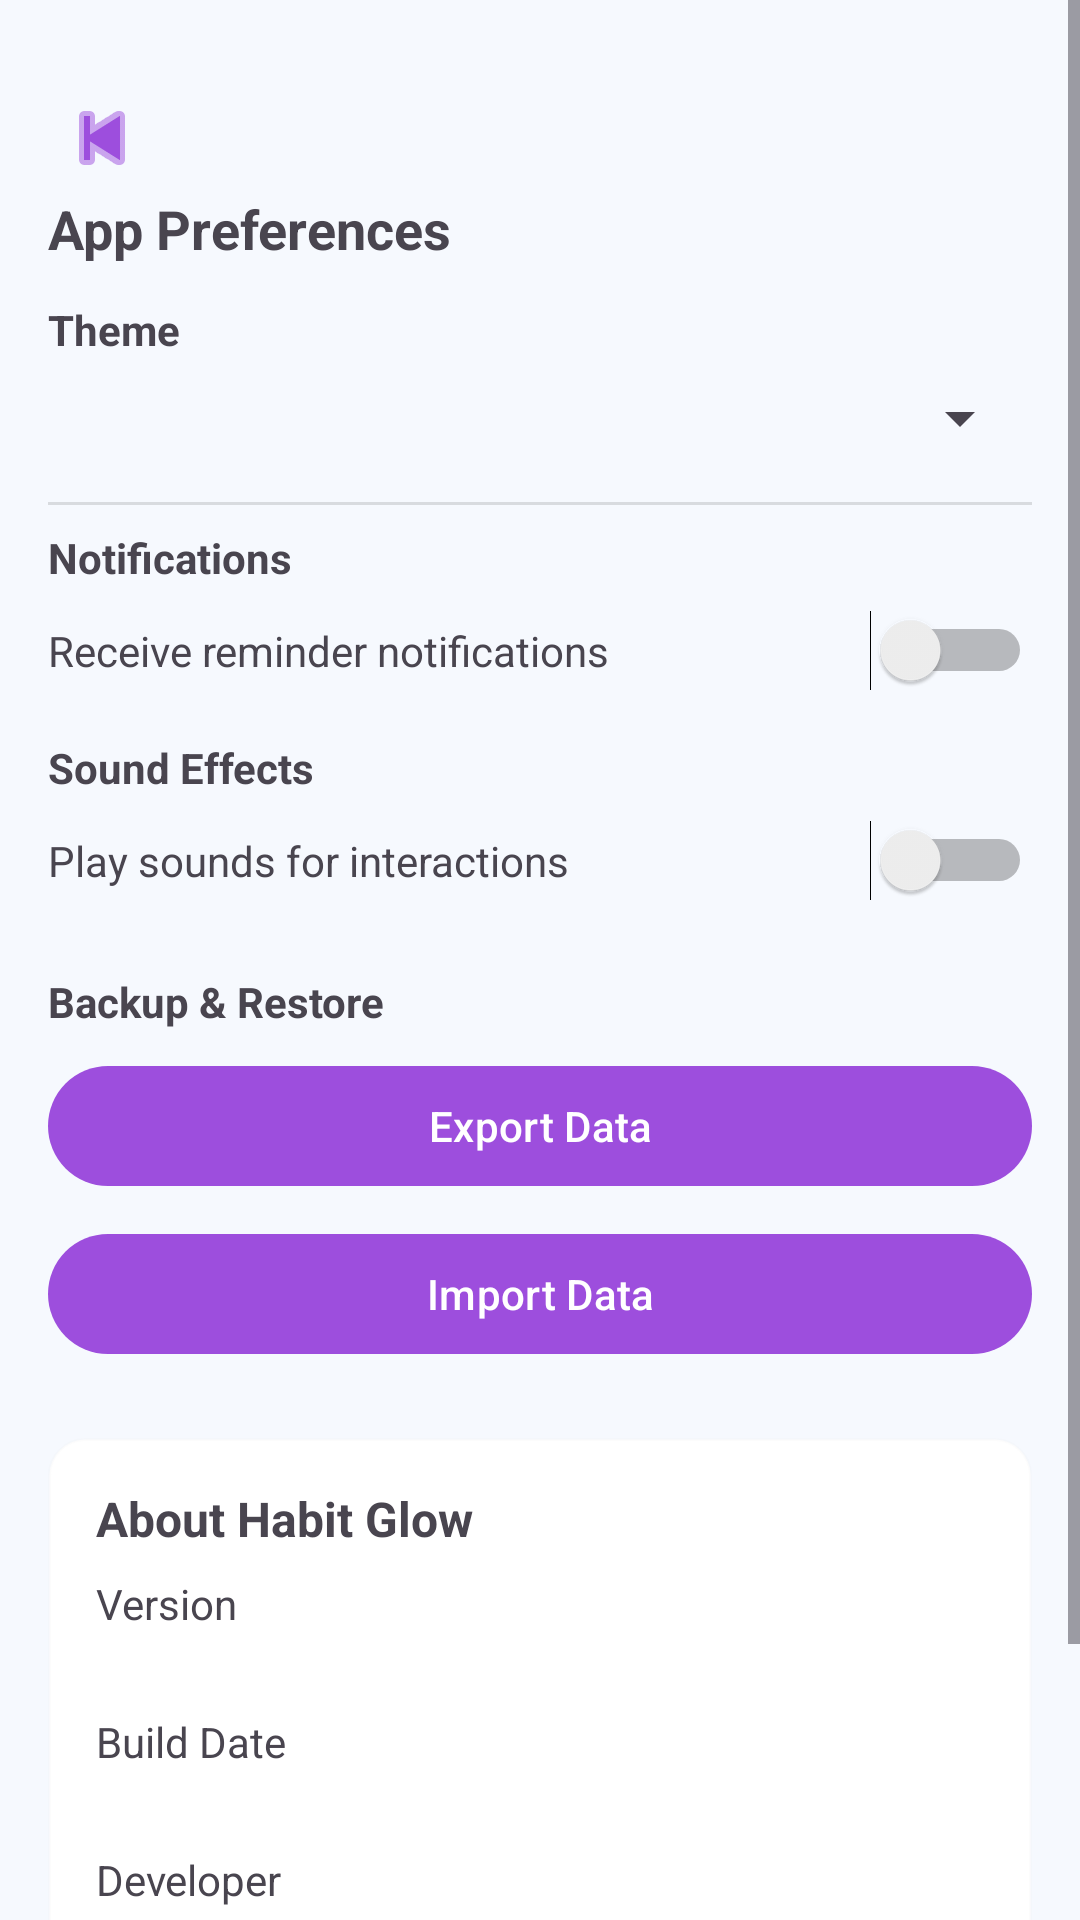

Icons on this 1080 x 1920 Android screen, each with its box as [x1=x1, y1=y1, x2=x2, y2=y2]:
Back: [x1=79, y1=111, x2=125, y2=165]
